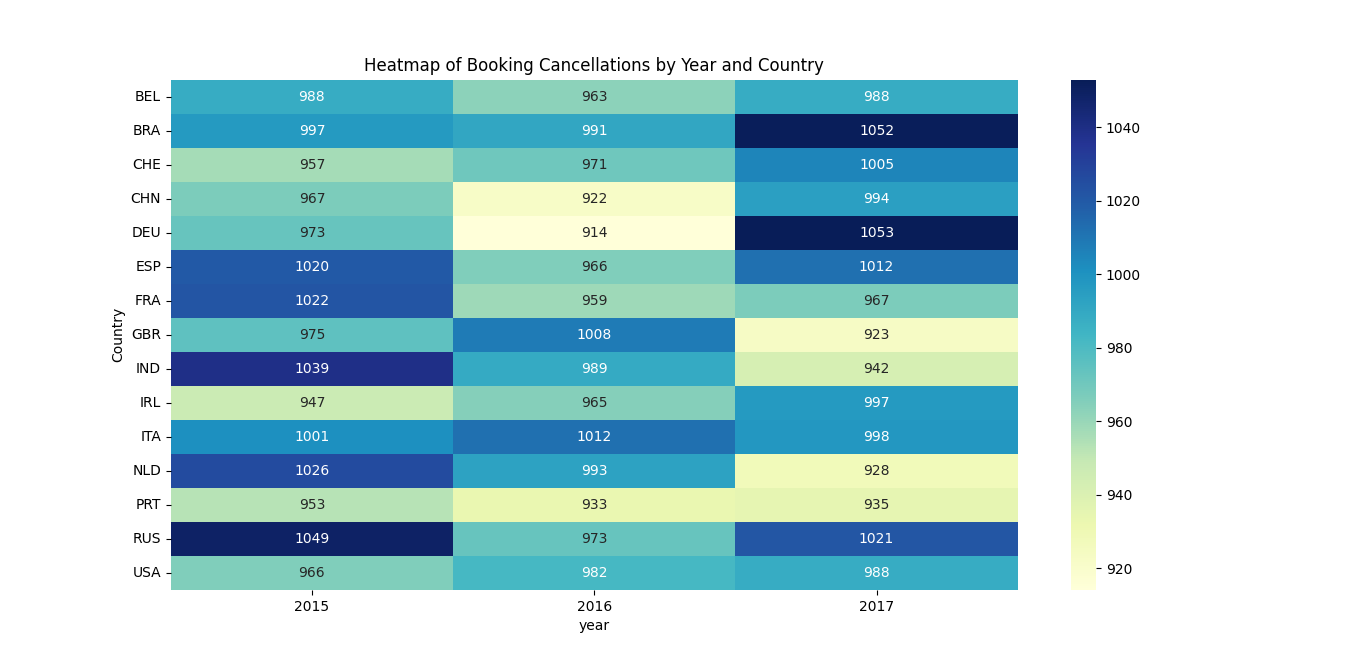

What the dashboard file says about the page in this screenshot:
{"tool":"powerbi","page":{"name":"Page 1","canvas":[1280,720],"ordinal":0},"visuals":[{"type":"heatmapF244EA9EE1F34E828A80CF19B41976F8","fields":{"location":["HotelBooking Datasets.country"],"latitude":["Sum(HotelBooking Datasets.total_visitors)"]},"box":[10.7,0,1269.6,720.7],"z":0}]}

Visuals, with their boxes on the page's 1280x720 design canvas (x1, y1, x2, y2). These are canvas units, not pixel positions in the 1366x663 screenshot, which may show the page scaled, cropped or inside an application window:
heatmapF244EA9EE1F34E828A80CF19B41976F8 - HotelBooking Datasets.country x Sum(HotelBooking Datasets.total_visitors): [11,0,1280,721]
